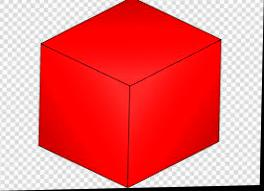cube: (38, 0, 224, 190)
